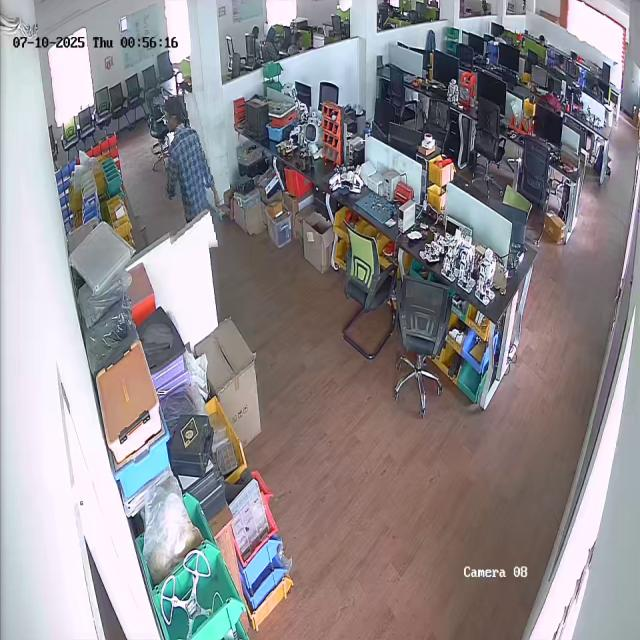person: (158, 93, 220, 251)
